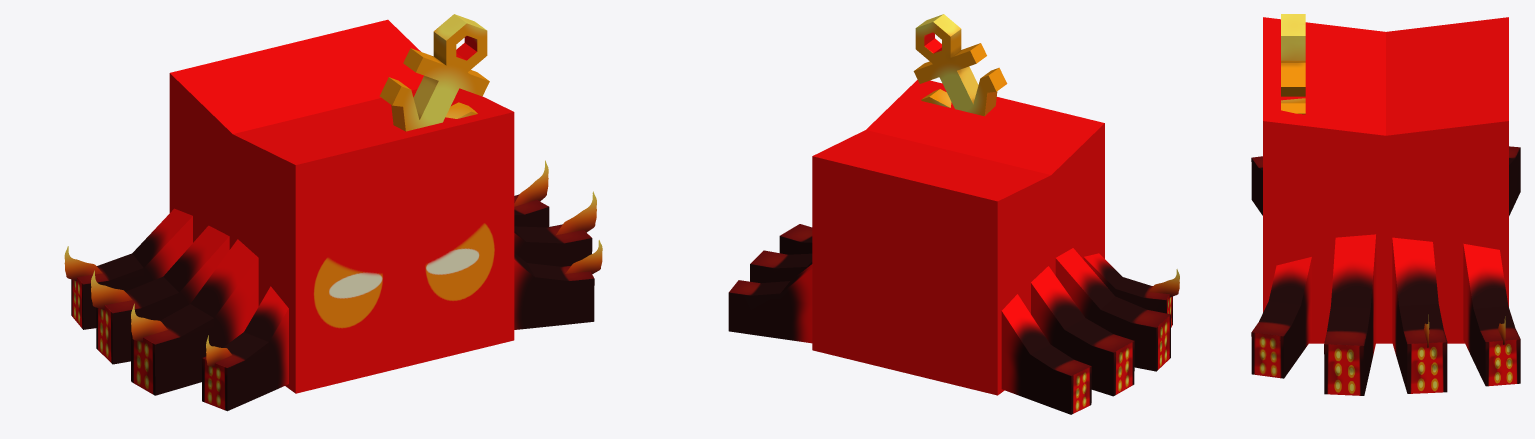
Rendered from Flaming Kraken.fbx.
3 views of the same model, side by side, from view 1: azimuth 30°, elevation 25°; view 2: azimuth 150°, elevation 25°; view 3: azimuth 270°, elevation 25° (orthographic). The views are drawn at different scales.
Visible parts, largest first — view 1: Flaming Kraken; view 2: Flaming Kraken; view 3: Flaming Kraken.
Boxes of the visible parts, box(x1,y1,x2,y2) form: Flaming Kraken: box(64, 14, 602, 411); Flaming Kraken: box(728, 14, 1179, 414); Flaming Kraken: box(1251, 14, 1520, 395).
Bounding box in the file's own units: 945 × 507 × 399.
1 material, 1 textured.
